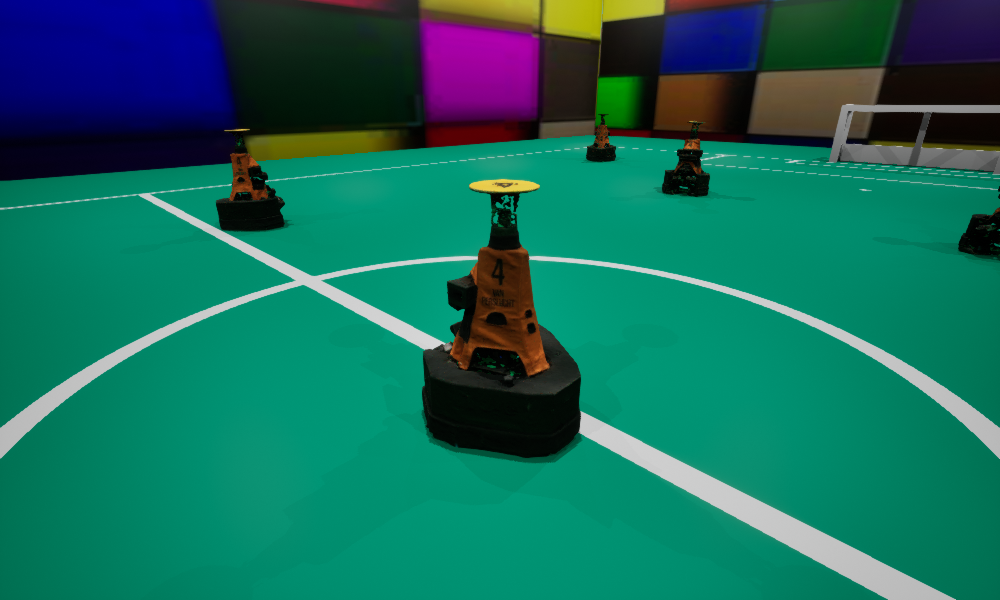o: (422, 179, 580, 457), (216, 129, 284, 230), (662, 121, 709, 195), (958, 186, 999, 255), (586, 114, 615, 161)
